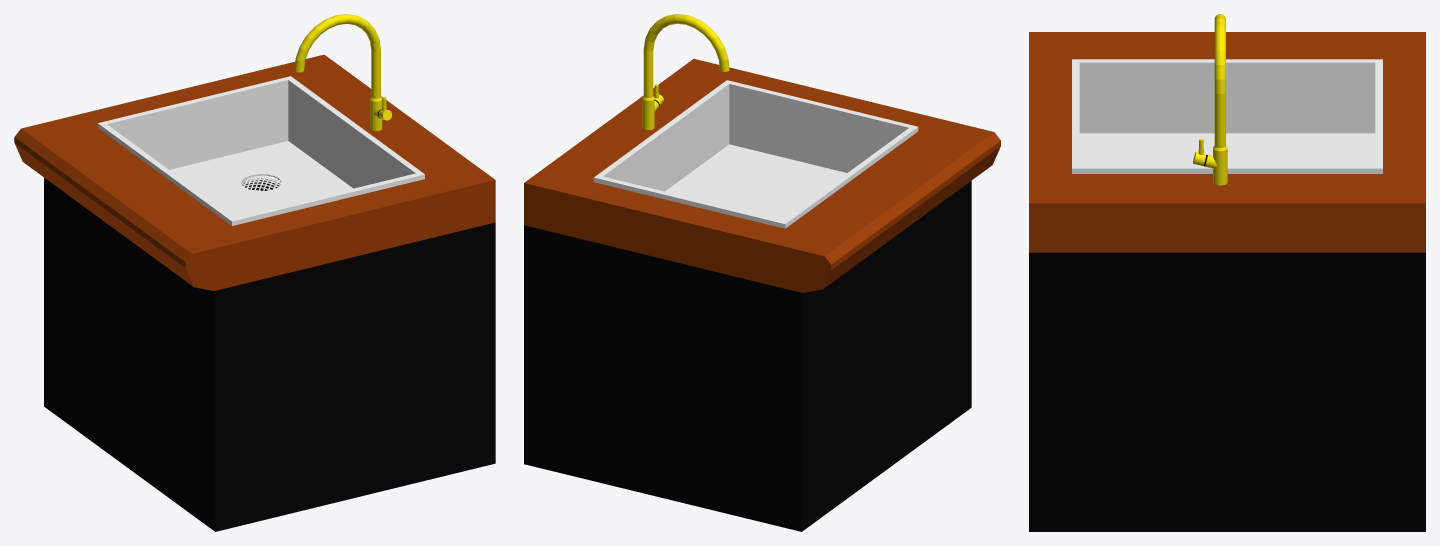
Rendered from sink.gltf.
The picture shows the model from 3 angles, left to right: view 1: azimuth 30°, elevation 25°; view 2: azimuth 150°, elevation 25°; view 3: azimuth 270°, elevation 25°; orthographic projection. The views are drawn at different scales.
Visible parts, largest first — view 1: sink; view 2: sink; view 3: sink.
Part boxes in pixels (<box>): sink: <box>14,14,495,531</box>; sink: <box>524,14,1000,531</box>; sink: <box>1029,14,1425,531</box>.
Size of the model in its own units: 3.68 by 4.61 by 3.52.
